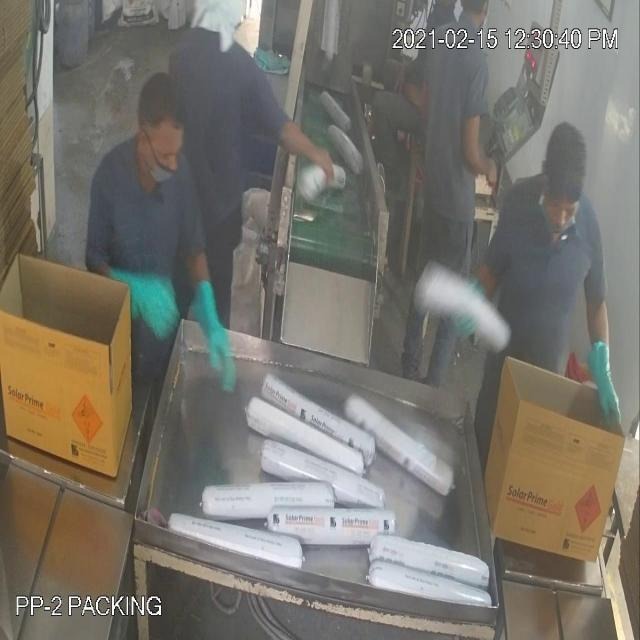Gloves: (46, 89, 603, 370)
